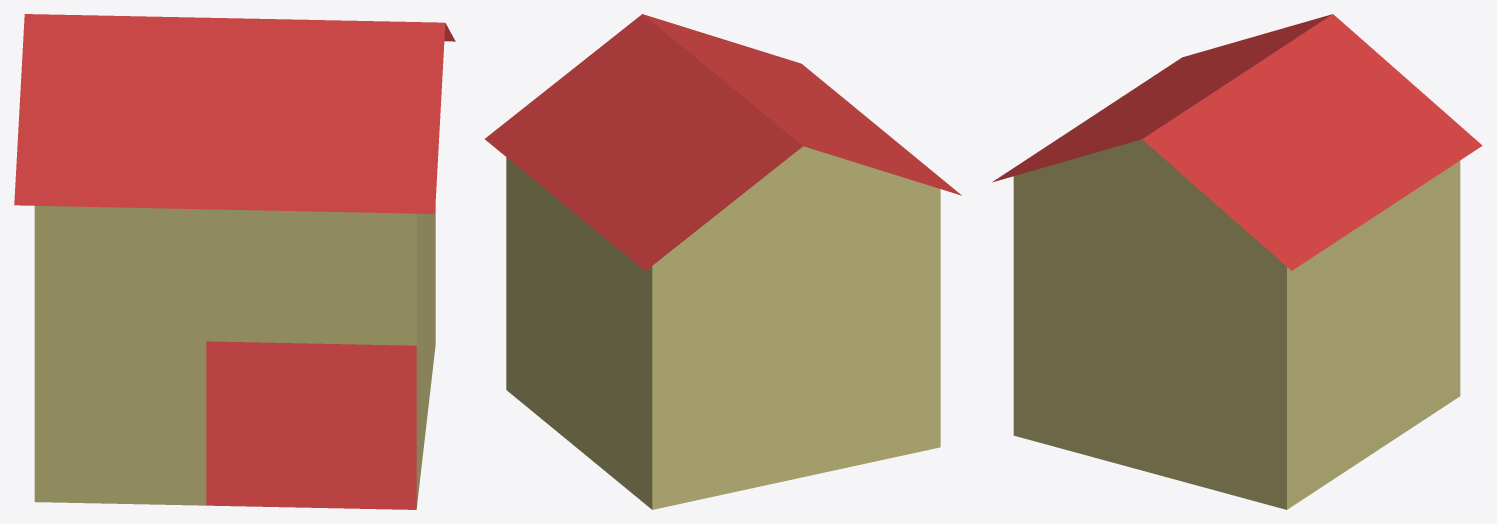
3 renders of one model, left to right at view 1: azimuth 30°, elevation 25°; view 2: azimuth 150°, elevation 25°; view 3: azimuth 270°, elevation 25°, orthographic. The views are drawn at different scales.
Bounding box in the file's own units: 15.12 × 15.16 × 11.55.
